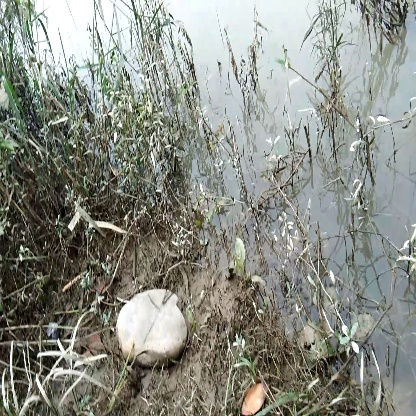grass: (89, 8, 200, 138)
